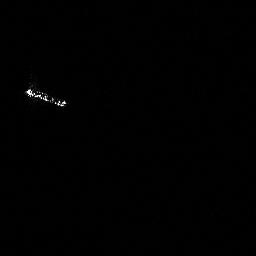ship: (21, 84, 70, 110)
